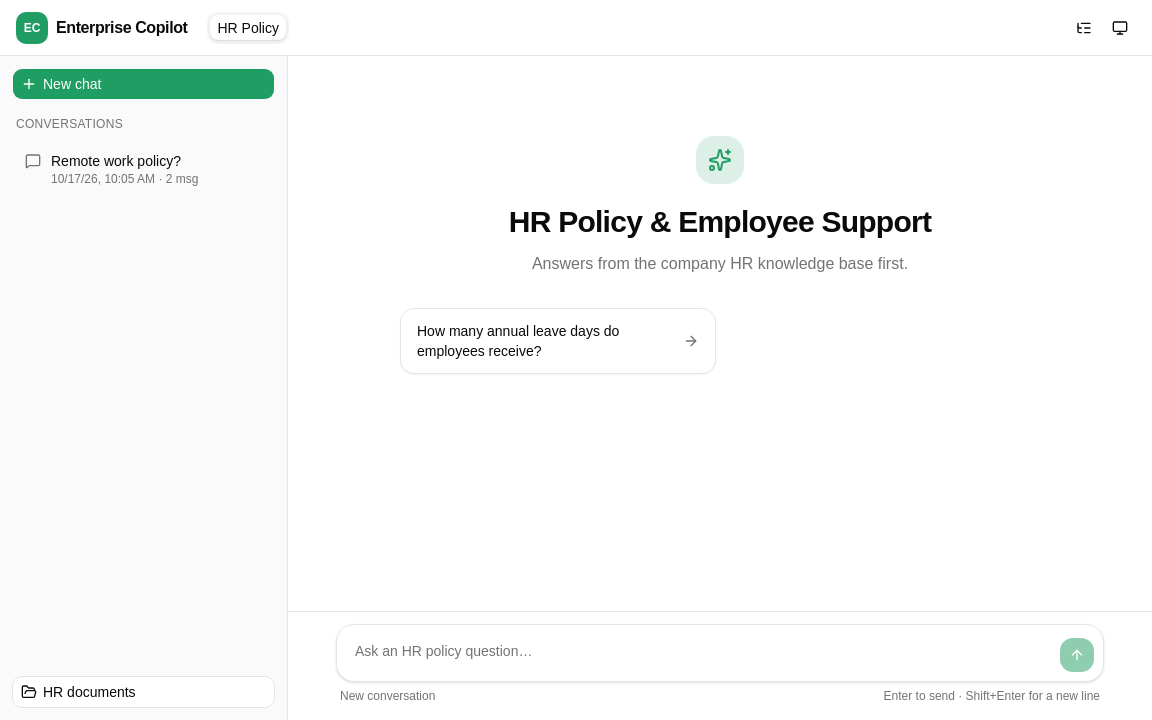
ChatPage › streams an answer with sources, verification badge and trace
Type "How many leave days?" into the text box named "Your question" at point(698, 653), box [345,633,1051,673]
Then press Enter
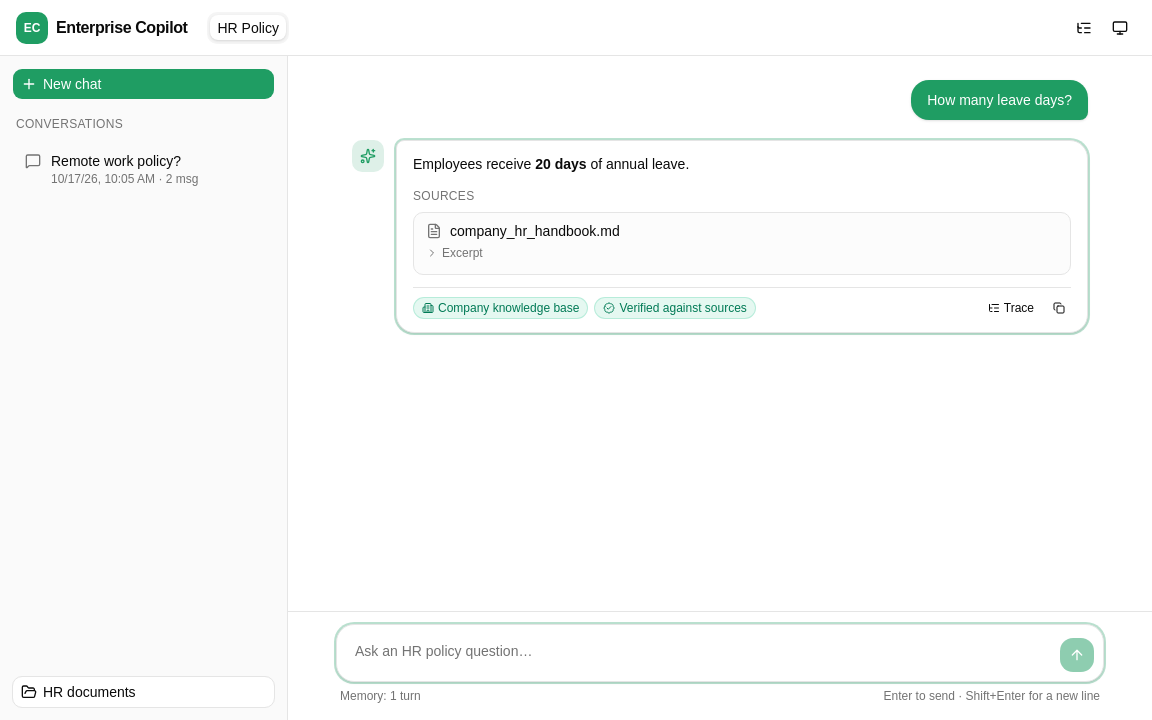
Now the text "20 days" is shown, box [535,156,587,172]
Now the text "How many leave days?" is shown, box [911,80,1088,120]
Now the text "Company knowledge base" is shown, box [413,297,588,319]
